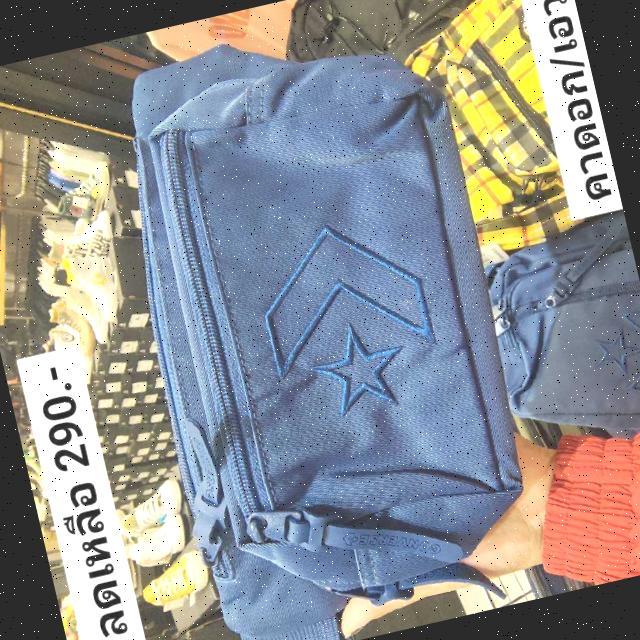Handbag: (81, 0, 575, 640)
